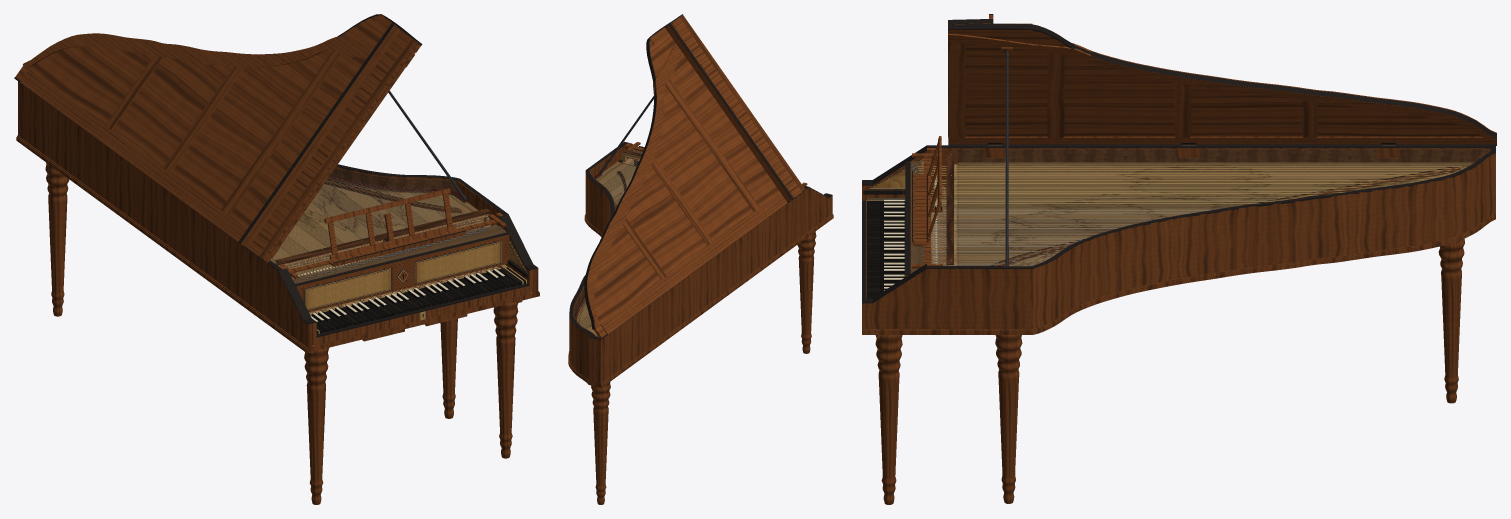
File: stein_1780_fortepiano.glb
3 views of the same model, side by side, from view 1: azimuth 30°, elevation 25°; view 2: azimuth 150°, elevation 25°; view 3: azimuth 270°, elevation 25° (orthographic). The views are drawn at different scales.
Visible parts, largest first — view 1: Deckel_Main_Plate, Korpus_Spine_Basswand, Resonanzboden_Soundboard, Deckel_Batten_Bentside_TopRelief, Deckel_Batten_Spine_TopRelief, Deckel_Flap_Main_Plate, Korpus_Turned_Leg_FrontTreble, Korpus_Turned_Leg_FrontBass, Korpus_Turned_Leg_Tail, Korpus_Base_Skirt_Moulding, Deckel_TopRelief_Lid_Batten_1, Korpus_Front_Lockboard_Schlossbrett (+24 smaller); view 2: Deckel_Main_Plate, Korpus_Spine_Basswand, Deckel_Batten_Bentside_TopRelief, Deckel_Batten_Spine_TopRelief, Korpus_Bentside_Hohlwand, Deckel_Flap_Main_Plate, Korpus_Turned_Leg_Tail, Korpus_Turned_Leg_FrontBass, Deckel_TopRelief_Lid_Batten_1, Deckel_Flap_Front_Drop_Lip, Korpus_Base_Skirt_Moulding, Resonanzboden_Soundboard (+9 smaller); view 3: Korpus_Bentside_Hohlwand, Resonanzboden_Soundboard, Deckel_Main_Plate, Korpus_Cheek_Diskantwand, Resonanzboden_Innenzarge_Walnut, Deckel_Batten_Bentside_Underside, Korpus_Rim_Cap_Moulding, Deckel_Batten_Spine_Underside, Deckel_Main_Ebony_Rim, Korpus_Base_Skirt_Moulding, Korpus_Turned_Leg_FrontTreble, Korpus_Turned_Leg_CheekBentside (+12 smaller).
Boxes of the visible parts, x1=… form: Deckel_Main_Plate: x1=15, y1=16, x2=420, y2=263; Korpus_Spine_Basswand: x1=18, y1=81, x2=312, y2=347; Resonanzboden_Soundboard: x1=270, y1=184, x2=483, y2=268; Deckel_Batten_Bentside_TopRelief: x1=23, y1=33, x2=411, y2=67; Deckel_Batten_Spine_TopRelief: x1=20, y1=70, x2=274, y2=261; Deckel_Flap_Main_Plate: x1=257, y1=41, x2=418, y2=260; Korpus_Turned_Leg_FrontTreble: x1=493, y1=301, x2=518, y2=458; Korpus_Turned_Leg_FrontBass: x1=304, y1=347, x2=328, y2=504; Korpus_Turned_Leg_Tail: x1=45, y1=162, x2=69, y2=316; Korpus_Base_Skirt_Moulding: x1=16, y1=137, x2=539, y2=352; Deckel_TopRelief_Lid_Batten_1: x1=221, y1=51, x2=341, y2=215; Korpus_Front_Lockboard_Schlossbrett: x1=315, y1=286, x2=529, y2=345; Deckel_Main_Plate: x1=594, y1=34, x2=780, y2=339; Korpus_Spine_Basswand: x1=597, y1=187, x2=832, y2=383; Deckel_Batten_Bentside_TopRelief: x1=587, y1=42, x2=682, y2=328; Deckel_Batten_Spine_TopRelief: x1=600, y1=193, x2=787, y2=334; Korpus_Bentside_Hohlwand: x1=569, y1=173, x2=610, y2=380; Deckel_Flap_Main_Plate: x1=678, y1=26, x2=793, y2=186; Korpus_Turned_Leg_Tail: x1=591, y1=382, x2=610, y2=504; Korpus_Turned_Leg_FrontBass: x1=797, y1=231, x2=816, y2=353; Deckel_TopRelief_Lid_Batten_1: x1=665, y1=78, x2=760, y2=211; Deckel_Flap_Front_Drop_Lip: x1=665, y1=24, x2=791, y2=201; Korpus_Base_Skirt_Moulding: x1=568, y1=215, x2=833, y2=387; Resonanzboden_Soundboard: x1=577, y1=161, x2=636, y2=336; Korpus_Bentside_Hohlwand: x1=1033, y1=153, x2=1495, y2=328; Resonanzboden_Soundboard: x1=957, y1=163, x2=1471, y2=266; Deckel_Main_Plate: x1=948, y1=30, x2=1496, y2=144; Korpus_Cheek_Diskantwand: x1=862, y1=268, x2=1032, y2=328; Resonanzboden_Innenzarge_Walnut: x1=957, y1=149, x2=1489, y2=262; Deckel_Batten_Bentside_Underside: x1=948, y1=33, x2=1496, y2=139; Korpus_Rim_Cap_Moulding: x1=927, y1=145, x2=1495, y2=269; Deckel_Batten_Spine_Underside: x1=948, y1=136, x2=1482, y2=142; Deckel_Main_Ebony_Rim: x1=948, y1=23, x2=1496, y2=138; Korpus_Base_Skirt_Moulding: x1=862, y1=215, x2=1495, y2=334; Korpus_Turned_Leg_FrontTreble: x1=875, y1=335, x2=902, y2=504; Korpus_Turned_Leg_CheekBentside: x1=995, y1=335, x2=1022, y2=503.
Size of the model in its own units: 1.01 by 1.65 by 2.1.
Materials: 63 (39 with a texture image).
